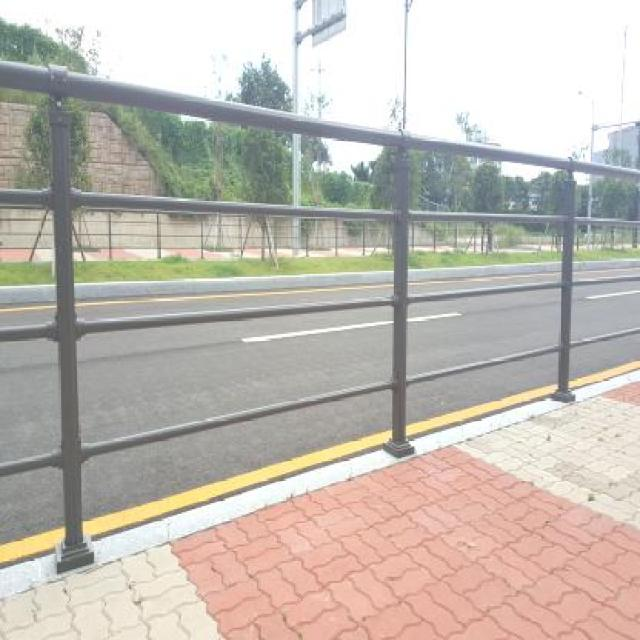fence: (6, 39, 421, 521), (378, 85, 640, 468)
